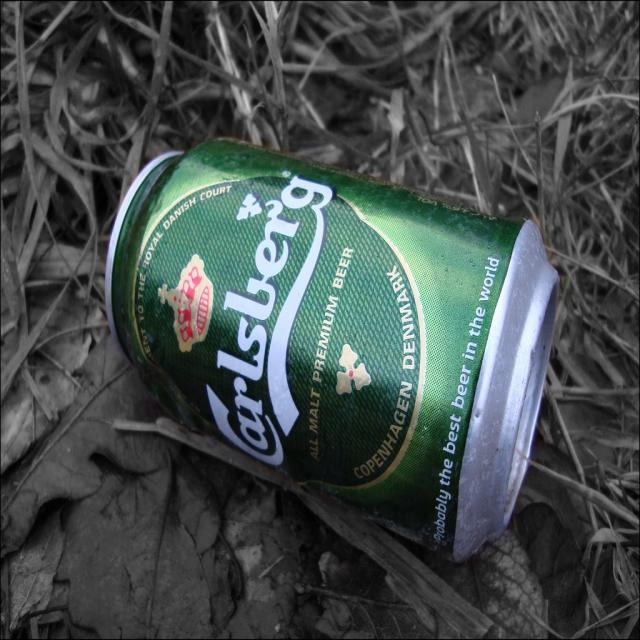carlsberg: (127, 168, 432, 497)
